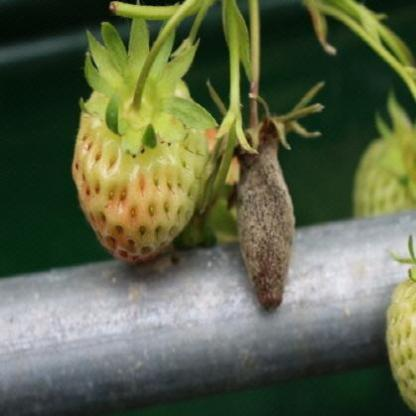Strawberry_Gray_Mold: (236, 120, 296, 310)
